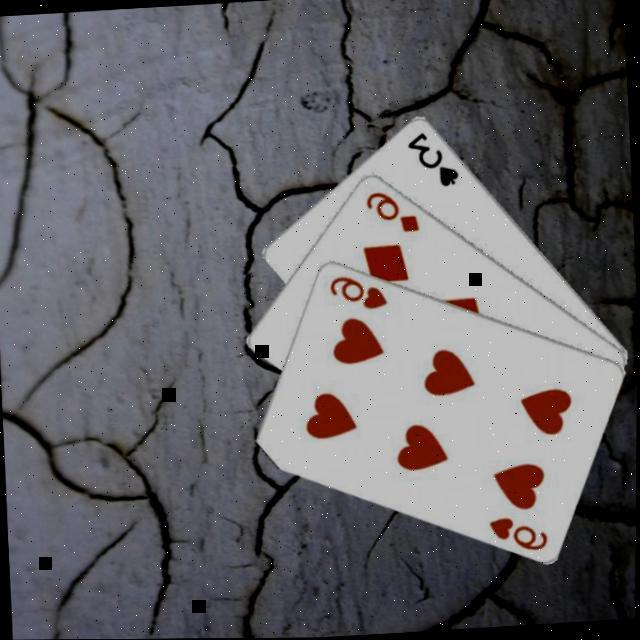3S: (401, 126, 460, 191)
6D: (360, 185, 420, 237)
6H: (323, 269, 389, 314), (484, 510, 550, 555)
